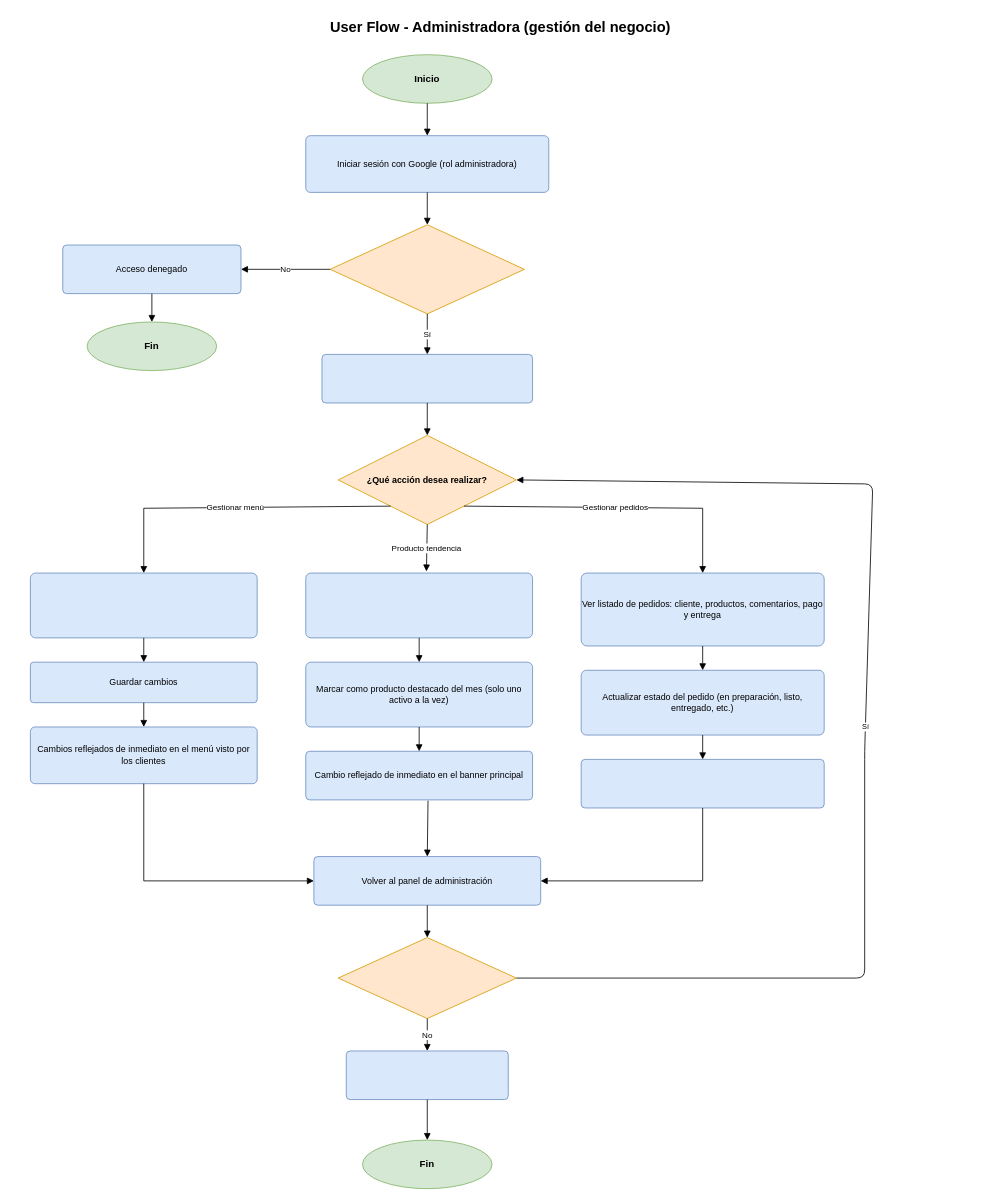
Some shapes in this 1000 by 1203 pixel diagram are drawn without their labels. The shapes that lost their labels are listed below. From the top down, each one's centre as x and y in pixels, then its label:
At point 426,269: "¿Autenticación válida y rol = administradora?".
At point 427,378: "Ingresar al panel de administración".
At point 143,605: "Gestionar el menú: crear, editar o desactivar un producto".
At point 419,605: "Gestionar producto en tendencia: elegir producto del catálogo".
At point 702,783: "Registrar la fecha del cambio de estado".
At point 426,978: "¿Desea realizar otra acción?".
At point 426,1075: "Cerrar sesión".
